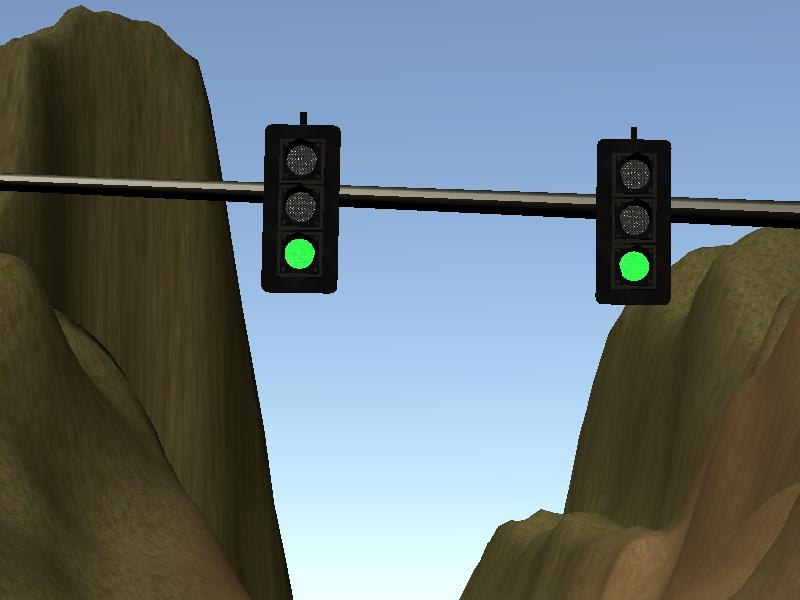traffic_light_green: (1, 105, 800, 309)
